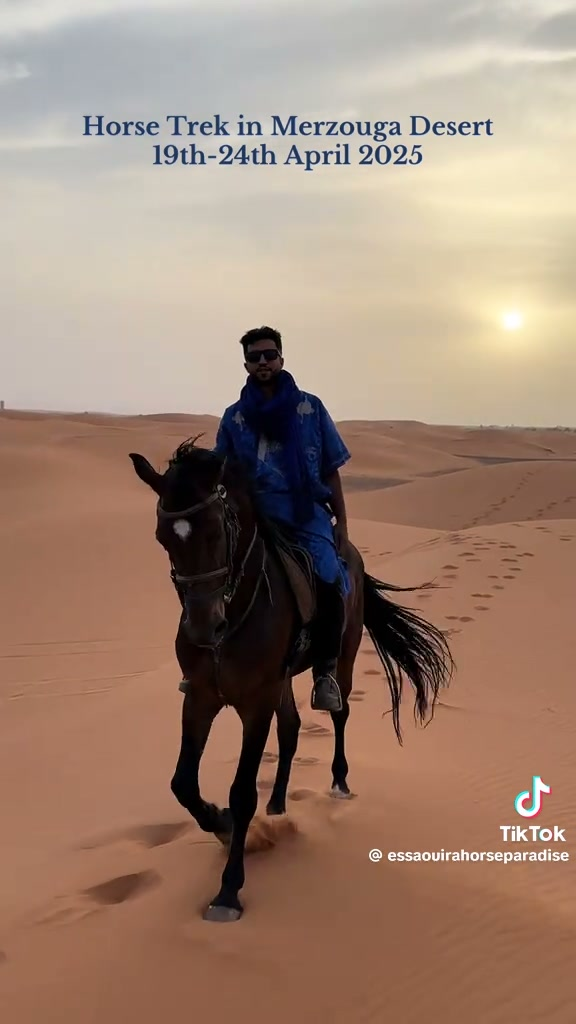animal_footprint: (78, 821, 192, 850), (82, 869, 160, 905), (126, 822, 189, 848), (301, 722, 329, 736), (294, 756, 319, 766), (347, 689, 365, 701), (257, 779, 273, 791), (261, 751, 277, 762), (445, 628, 460, 637), (348, 692, 363, 701), (0, 949, 7, 965), (362, 669, 379, 675), (441, 563, 458, 569), (499, 543, 516, 549), (471, 593, 491, 598), (416, 593, 430, 600), (518, 551, 534, 557), (458, 616, 474, 622), (442, 573, 457, 579), (458, 551, 473, 557), (535, 526, 549, 532), (492, 584, 504, 590), (445, 615, 459, 620), (559, 536, 573, 541), (475, 605, 489, 610), (467, 557, 480, 562), (511, 523, 524, 528), (510, 567, 522, 572), (502, 558, 516, 562), (503, 575, 516, 579), (487, 574, 498, 578)
